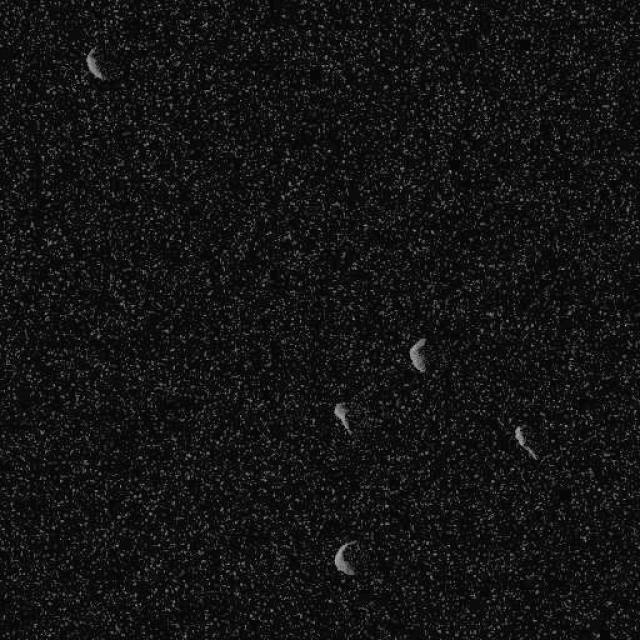D2: (332, 539, 358, 576), (512, 424, 538, 460), (84, 45, 108, 83), (408, 337, 428, 372), (332, 401, 352, 434)
